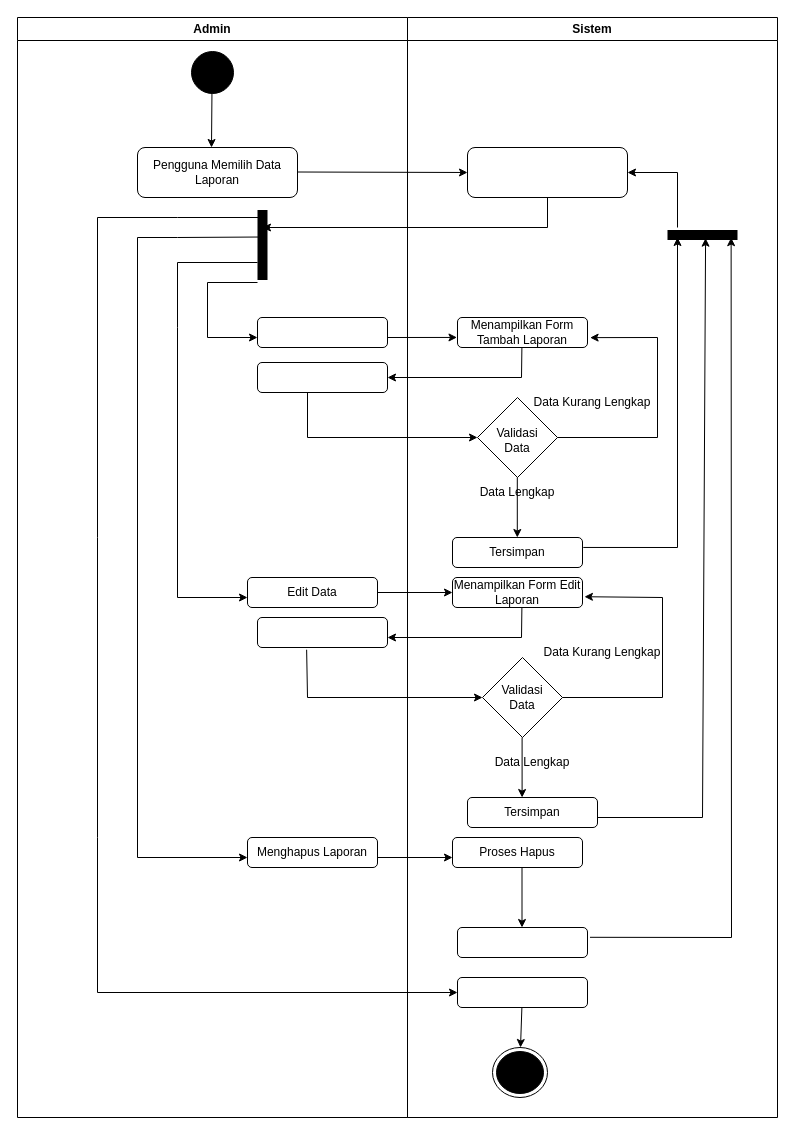
This 795x1135 diagram has some shape labels left out. The shapes that lost their labels are listed below. From the top down, each one's centre as x and y in pixels, then its label:
At point 547,172: "Menampilkan Data Laporan".
At point 322,332: "Tambah Laporan".
At point 322,377: "Megisi Form Laporan".
At point 322,632: "Mengiisi Form Laporan".
At point 522,942: "Terhapus".
At point 522,992: "Proses Selesai".
